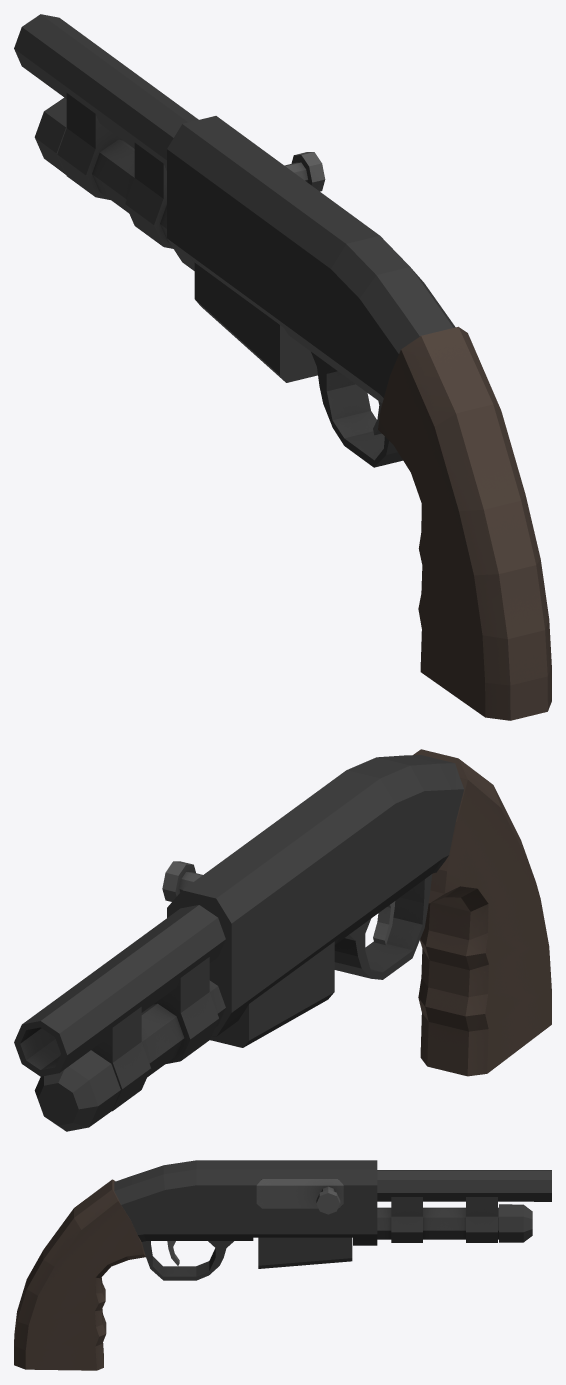
Rendered from low_poly_tlou_shorty_shotgun.glb.
The picture shows the model from 3 angles, top to bottom: view 1: azimuth 30°, elevation 25°; view 2: azimuth 150°, elevation 25°; view 3: azimuth 270°, elevation 25°; orthographic projection. The views are drawn at different scales.
Parts seen in each view (by area): view 1: Stock_Shorty, Shorty_Receiver, Barrel_Shorty, Tube_Shorty, Box_Mag, Trigger_guard_shorty, Tube_Cap_Shorty, Shotgun_action; view 2: Shorty_Receiver, Stock_Shorty, Barrel_Shorty, Tube_Shorty, Box_Mag, Trigger_guard_shorty, Tube_Cap_Shorty, Shotgun_action, Trigger_Shorty; view 3: Shorty_Receiver, Stock_Shorty, Barrel_Shorty, Tube_Shorty, Box_Mag, Shotgun_action, Trigger_guard_shorty, Tube_Cap_Shorty.
Part boxes in pixels (x1=…): Stock_Shorty: x1=378, y1=326, x2=551, y2=720; Shorty_Receiver: x1=167, y1=116, x2=455, y2=403; Barrel_Shorty: x1=14, y1=14, x2=198, y2=170; Tube_Shorty: x1=57, y1=93, x2=173, y2=248; Box_Mag: x1=194, y1=263, x2=317, y2=382; Trigger_guard_shorty: x1=311, y1=352, x2=402, y2=467; Tube_Cap_Shorty: x1=34, y1=97, x2=66, y2=174; Shotgun_action: x1=284, y1=152, x2=325, y2=191; Shorty_Receiver: x1=167, y1=755, x2=464, y2=1036; Stock_Shorty: x1=413, y1=749, x2=551, y2=1076; Barrel_Shorty: x1=14, y1=905, x2=225, y2=1076; Tube_Shorty: x1=91, y1=957, x2=225, y2=1111; Box_Mag: x1=210, y1=941, x2=334, y2=1047; Trigger_guard_shorty: x1=334, y1=874, x2=432, y2=979; Tube_Cap_Shorty: x1=34, y1=1050, x2=120, y2=1131; Shotgun_action: x1=162, y1=861, x2=202, y2=901; Trigger_Shorty: x1=373, y1=901, x2=395, y2=944; Shorty_Receiver: x1=114, y1=1160, x2=377, y2=1245; Stock_Shorty: x1=14, y1=1179, x2=145, y2=1370; Barrel_Shorty: x1=377, y1=1170, x2=551, y2=1201; Tube_Shorty: x1=377, y1=1197, x2=498, y2=1242; Box_Mag: x1=258, y1=1237, x2=352, y2=1268; Shotgun_action: x1=256, y1=1179, x2=343, y2=1214; Trigger_guard_shorty: x1=142, y1=1241, x2=233, y2=1280; Tube_Cap_Shorty: x1=499, y1=1204, x2=532, y2=1242.
Bounding box in the file's own units: 1.47 × 4.85 × 11.98.
1 material, 1 textured.
